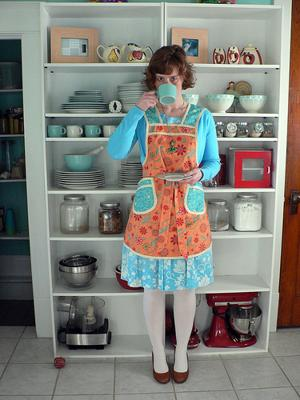person: (106, 44, 222, 383)
